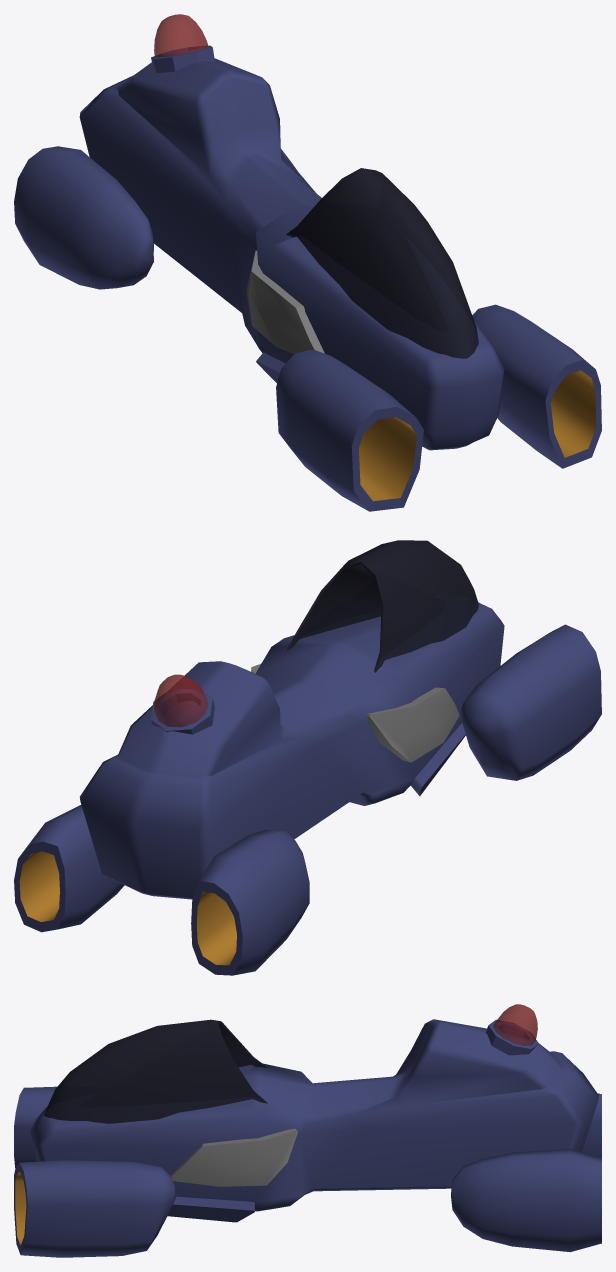
The model's file is naveBoss.fbx.
3 views of the same model, one above another, from view 1: azimuth 30°, elevation 25°; view 2: azimuth 150°, elevation 25°; view 3: azimuth 270°, elevation 25° (orthographic). The views are drawn at different scales.
Visible parts, largest first — view 1: cuerpo, vidrio, turboderAdelante, turboderAtras1, turboIzqAdelante, cartel, luz, luzBase; view 2: cuerpo, turboderAdelante, vidrio, turboderAtras1, turboderAtras, cartel, luz, luzBase, costadoder; view 3: cuerpo, vidrio, turboIzqAdelante, turboderAtras, cartel, turboderAdelante, costado, luz, luzBase, turboderAtras1.
Part boxes in pixels (left/top/right/bottom): cuerpo: left=79, top=58, right=504, bottom=450; vidrio: left=286, top=168, right=478, bottom=358; turboderAdelante: left=276, top=349, right=423, bottom=511; turboderAtras1: left=14, top=146, right=153, bottom=289; turboIzqAdelante: left=472, top=304, right=601, bottom=468; cartel: left=246, top=250, right=324, bottom=354; luz: left=154, top=14, right=208, bottom=57; luzBase: left=151, top=45, right=214, bottom=72; cuerpo: left=79, top=602, right=504, bottom=899; turboderAdelante: left=459, top=624, right=601, bottom=780; vidrio: left=286, top=540, right=478, bottom=672; turboderAtras1: left=191, top=829, right=309, bottom=975; turboderAtras: left=14, top=805, right=124, bottom=932; cartel: left=251, top=664, right=459, bottom=762; luz: left=154, top=674, right=208, bottom=727; luzBase: left=151, top=687, right=214, bottom=734; costadoder: left=411, top=723, right=465, bottom=796; cuerpo: left=30, top=1019, right=598, bottom=1211; vidrio: left=44, top=1019, right=267, bottom=1123; turboIzqAdelante: left=14, top=1160, right=175, bottom=1257; turboderAtras: left=451, top=1149, right=601, bottom=1252; cartel: left=170, top=1128, right=297, bottom=1186; turboderAdelante: left=14, top=1086, right=56, bottom=1167; costado: left=167, top=1196, right=254, bottom=1222; luz: left=493, top=1004, right=537, bottom=1045; luzBase: left=485, top=1019, right=538, bottom=1055; turboderAtras1: left=582, top=1093, right=601, bottom=1158.
Bounding box in the file's own units: 120 × 113 × 291.
